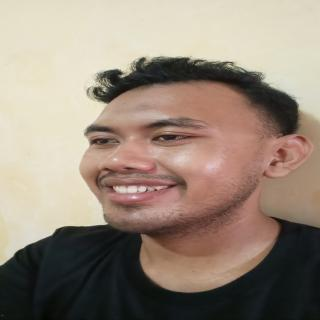Senang: (72, 64, 277, 243)
